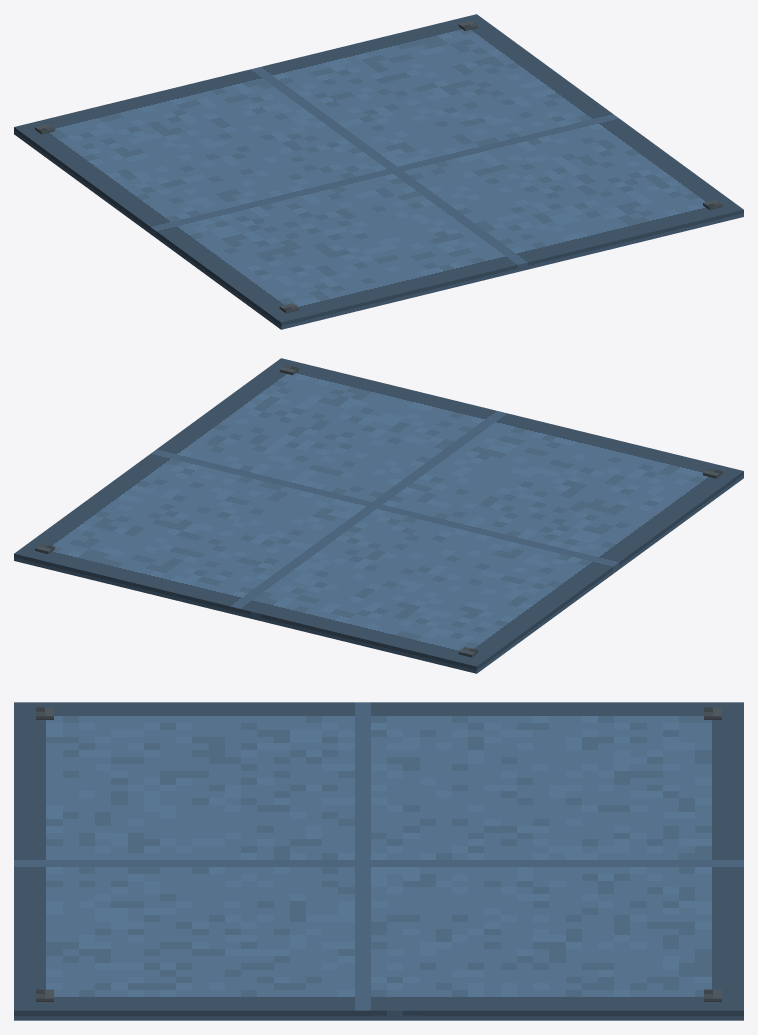
The model's file is f_plastic_groundsheet.glb.
The picture shows the model from 3 angles, top to bottom: view 1: azimuth 30°, elevation 25°; view 2: azimuth 150°, elevation 25°; view 3: azimuth 270°, elevation 25°; orthographic projection. The views are drawn at different scales.
Visible parts, largest first — view 1: block_sheet; view 2: block_sheet; view 3: block_sheet.
Boxes of the visible parts, bbox=[...] form: block_sheet: bbox=[14, 14, 743, 329]; block_sheet: bbox=[14, 358, 743, 673]; block_sheet: bbox=[14, 702, 743, 1020].
Bounding box in the file's own units: 0.94 × 0.019 × 0.94.
1 material, 1 textured.
